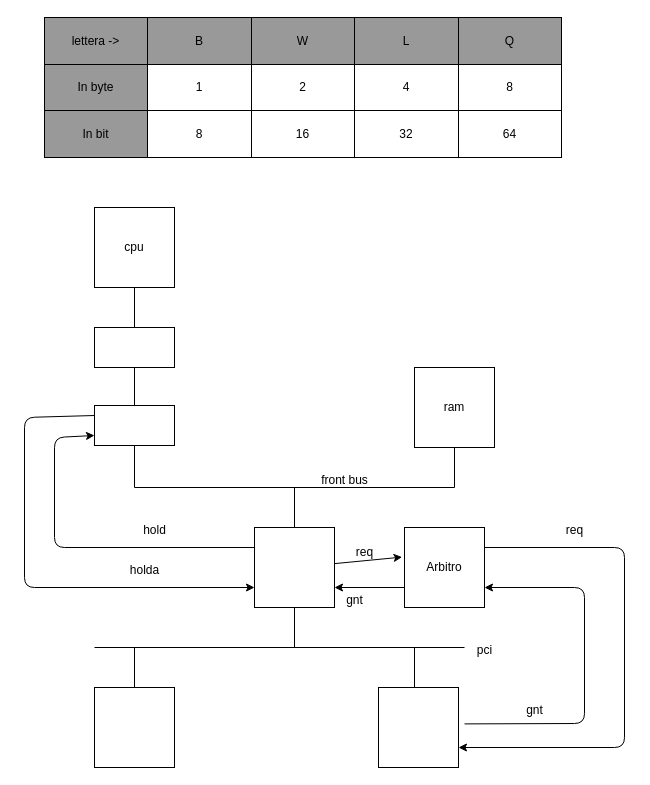
Image size: 650x785. Some labels were removed from this diagram. The centre of each missing label's shape, as x and y in pixels:
"chace" belongs at [134,425].
"mmu" belongs at [134,347].
"ponte ospite pci" belongs at [294,567].
